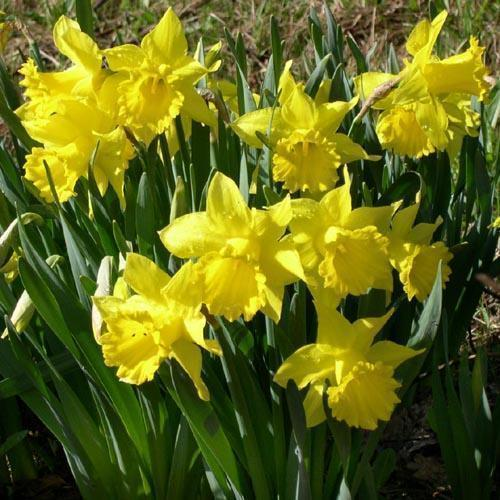flower1: (14, 8, 210, 203), (155, 173, 309, 322), (270, 302, 427, 437), (92, 252, 211, 399), (234, 71, 375, 191), (287, 176, 400, 305)
